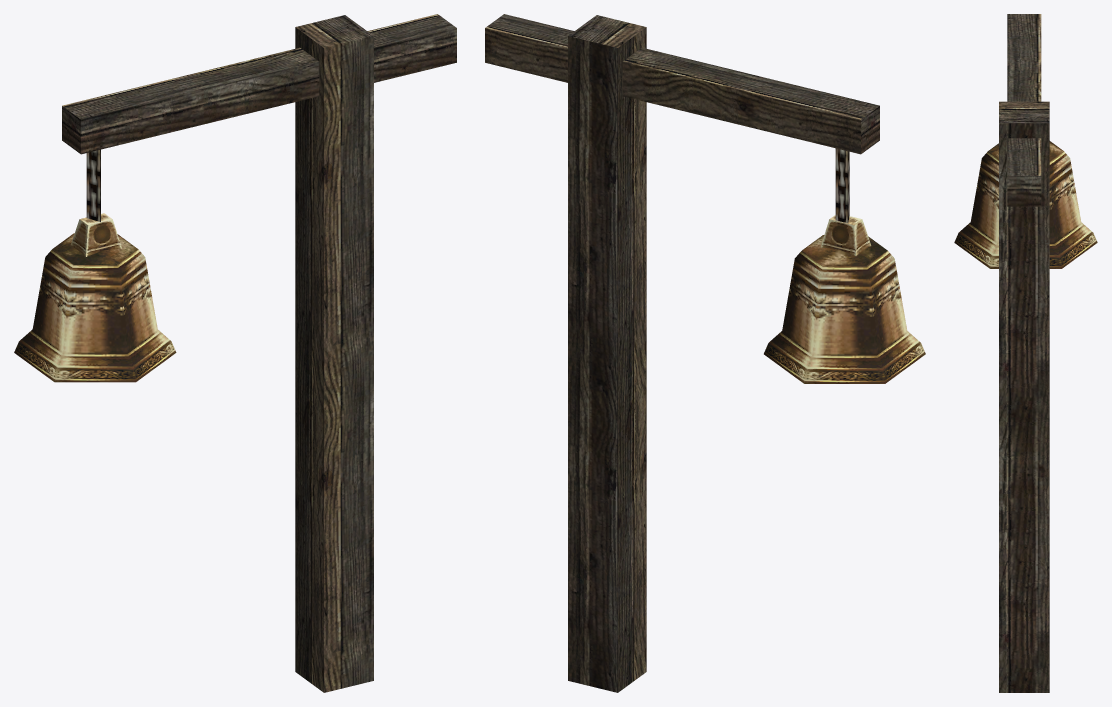
File: loc2_33.glb
3 views of the same model, side by side, from view 1: azimuth 30°, elevation 25°; view 2: azimuth 150°, elevation 25°; view 3: azimuth 270°, elevation 25° (orthographic). The views are drawn at different scales.
Visible parts, largest first — view 1: loc2_33-col; view 2: loc2_33-col; view 3: loc2_33-col.
Boxes of the visible parts, bbox=[...] form: loc2_33-col: bbox=[14, 14, 456, 692]; loc2_33-col: bbox=[485, 14, 925, 692]; loc2_33-col: bbox=[954, 14, 1097, 692].
Bounding box in the file's own units: 1.75 × 2.61 × 0.5962.
Materials: 2 (2 with a texture image).
